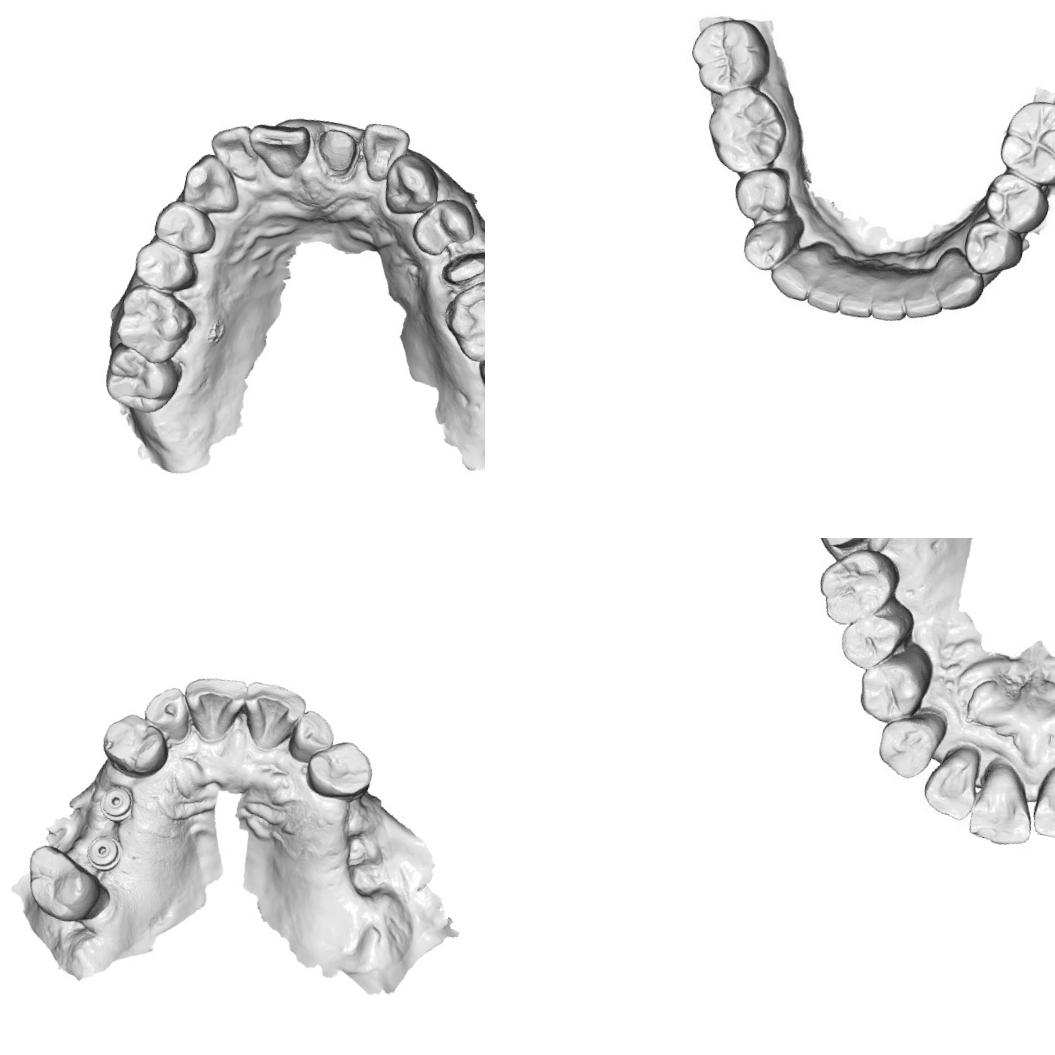canine: (870, 704, 945, 788), (176, 149, 248, 220), (926, 243, 992, 318), (379, 150, 445, 222), (764, 236, 828, 304)
crown: (310, 119, 362, 182), (435, 240, 485, 298), (806, 538, 897, 562)
implant: (94, 781, 140, 828), (81, 830, 126, 875)
incisor: (962, 758, 1048, 851), (174, 668, 250, 748), (236, 678, 310, 758), (918, 739, 982, 825), (242, 115, 314, 183), (202, 115, 266, 184), (137, 682, 200, 748), (353, 118, 412, 188), (803, 250, 852, 318), (285, 707, 339, 768), (898, 263, 950, 325), (836, 259, 882, 323), (868, 264, 914, 326), (1029, 756, 1055, 847)
molar: (808, 538, 905, 638), (697, 85, 794, 179), (683, 9, 779, 102), (17, 842, 116, 931), (107, 278, 201, 370), (98, 339, 186, 420), (993, 94, 1055, 190), (435, 272, 485, 371)
premolar: (851, 643, 933, 732), (95, 707, 176, 784), (977, 169, 1055, 243), (300, 734, 378, 807), (836, 600, 908, 676), (408, 192, 481, 264), (128, 233, 204, 297), (148, 196, 222, 258), (958, 218, 1030, 281), (726, 161, 794, 225), (738, 212, 802, 277)
